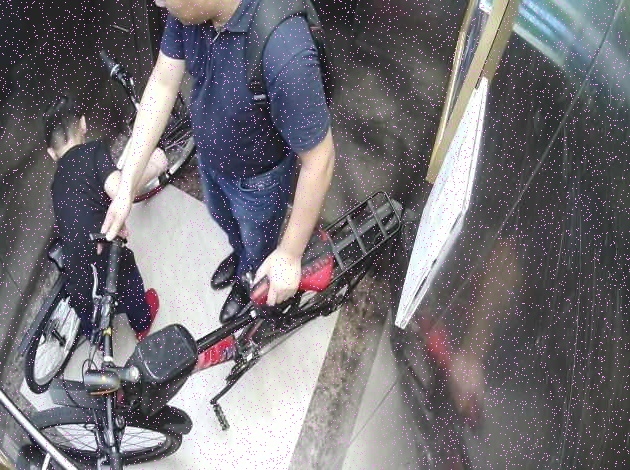bicycle: (19, 187, 408, 467), (22, 47, 204, 400)
person: (95, 1, 340, 327), (36, 99, 162, 347)
